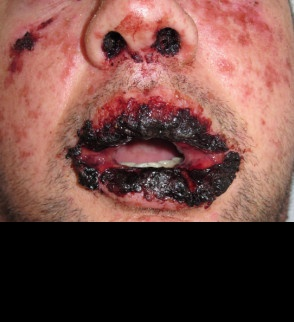SJS-TEN: (0, 0, 293, 224)
